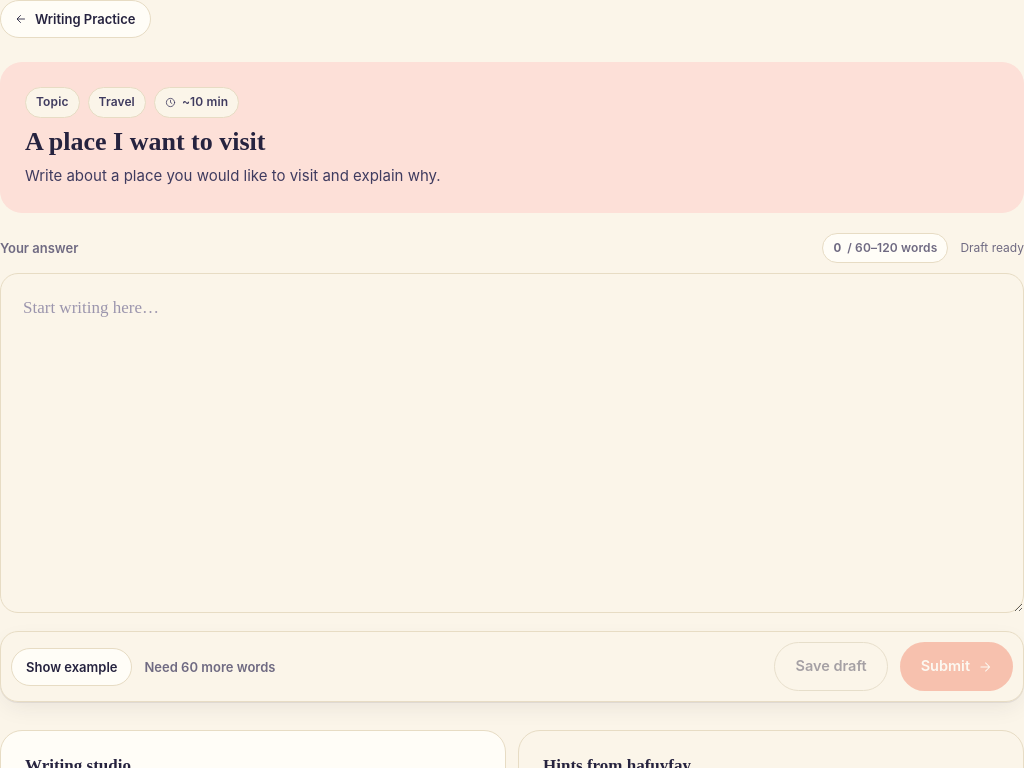
TaskRoute › shows a read-only writing example without overwriting the draft
The width and height of the screenshot is (1024, 768).
Step 1. Type "my own draft" into the text box with placeholder "Start writing here…" → (512, 443), box left=0, top=273, right=1023, bottom=613
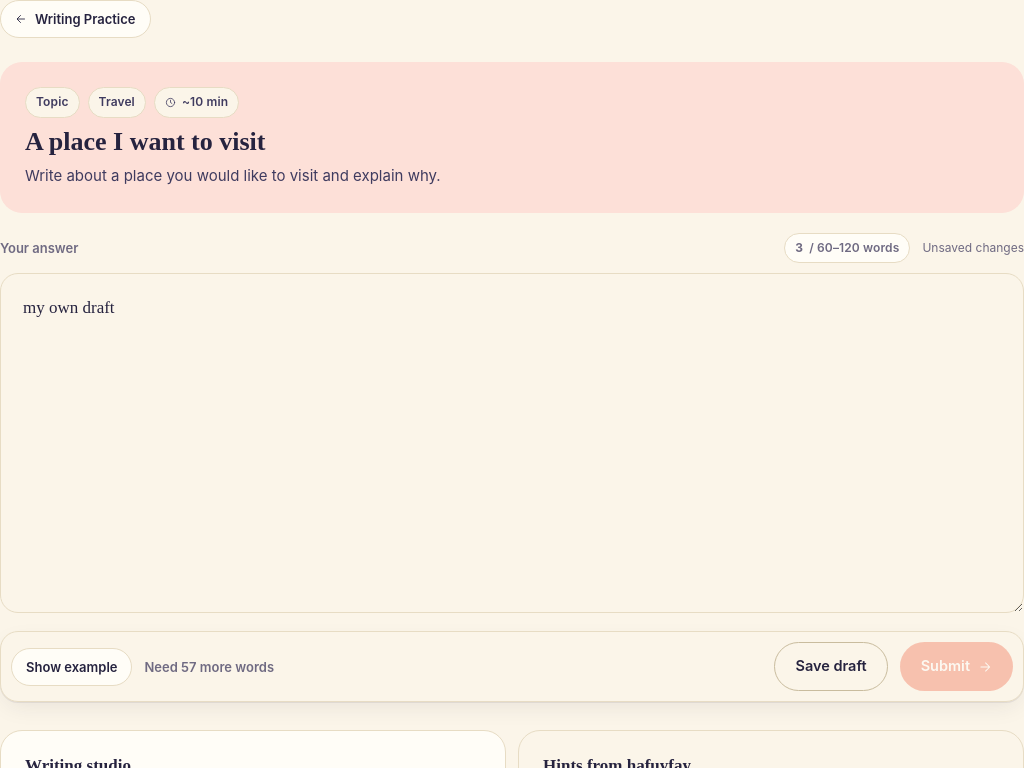
Step 2. Click the button "Show example" → (72, 667), box left=11, top=648, right=132, bottom=686
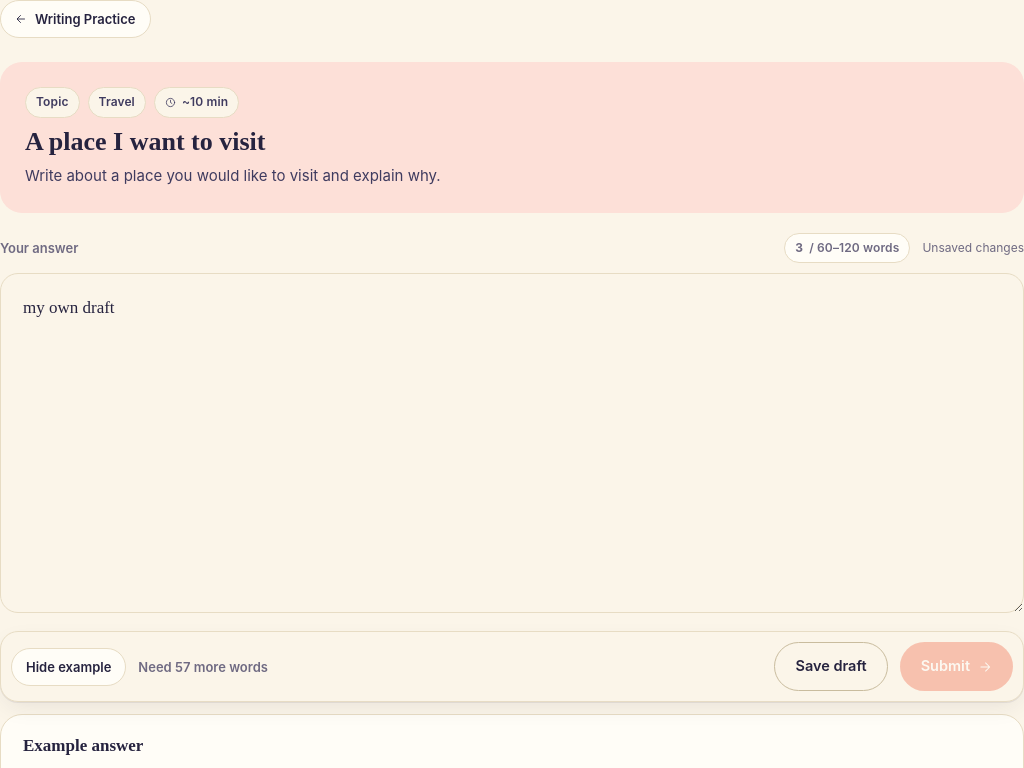
Now the heading "Example answer" is shown, box left=23, top=736, right=143, bottom=755
